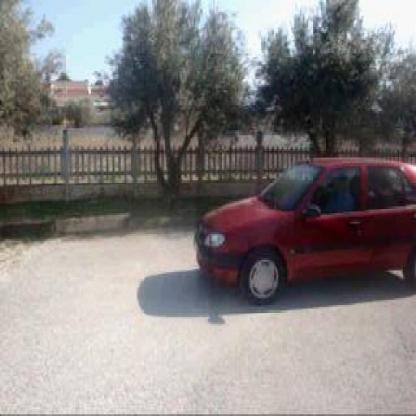other: (190, 138, 410, 300)
